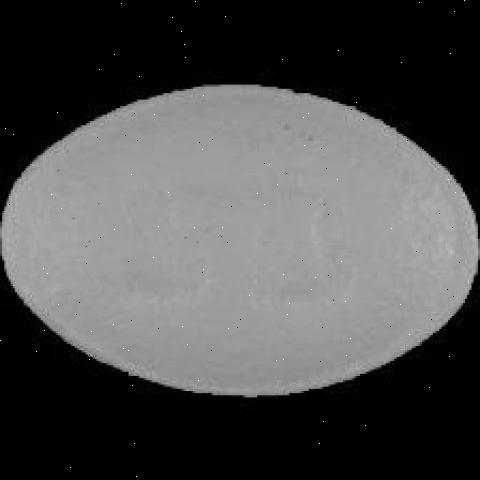Pill: (1, 53, 476, 429)
